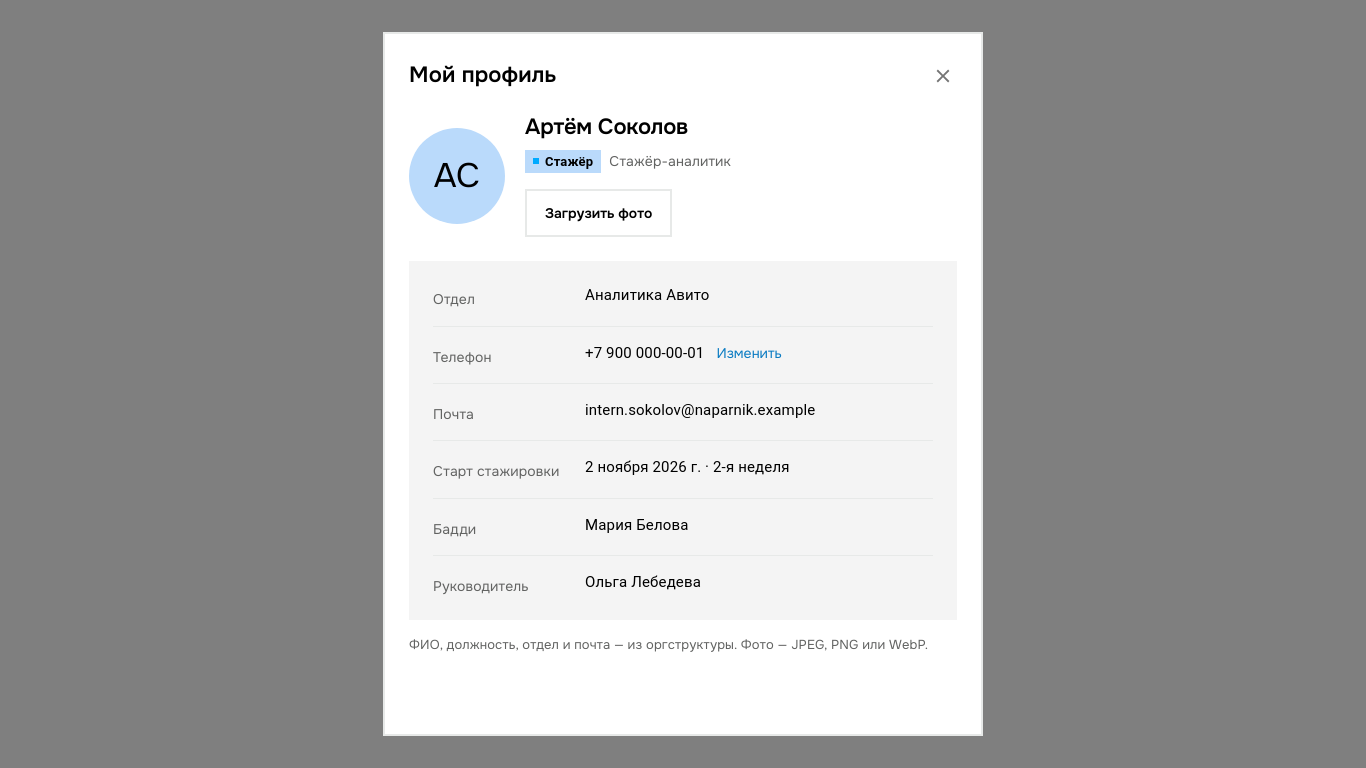
Test case: ProfileDialog › validates phone with hint, blocks letters, and saves 11-digit +7 number
This screenshot has width=1366, height=768.
Click the button "Изменить" at (749, 353), box x1=716 y1=343 x2=782 y2=363
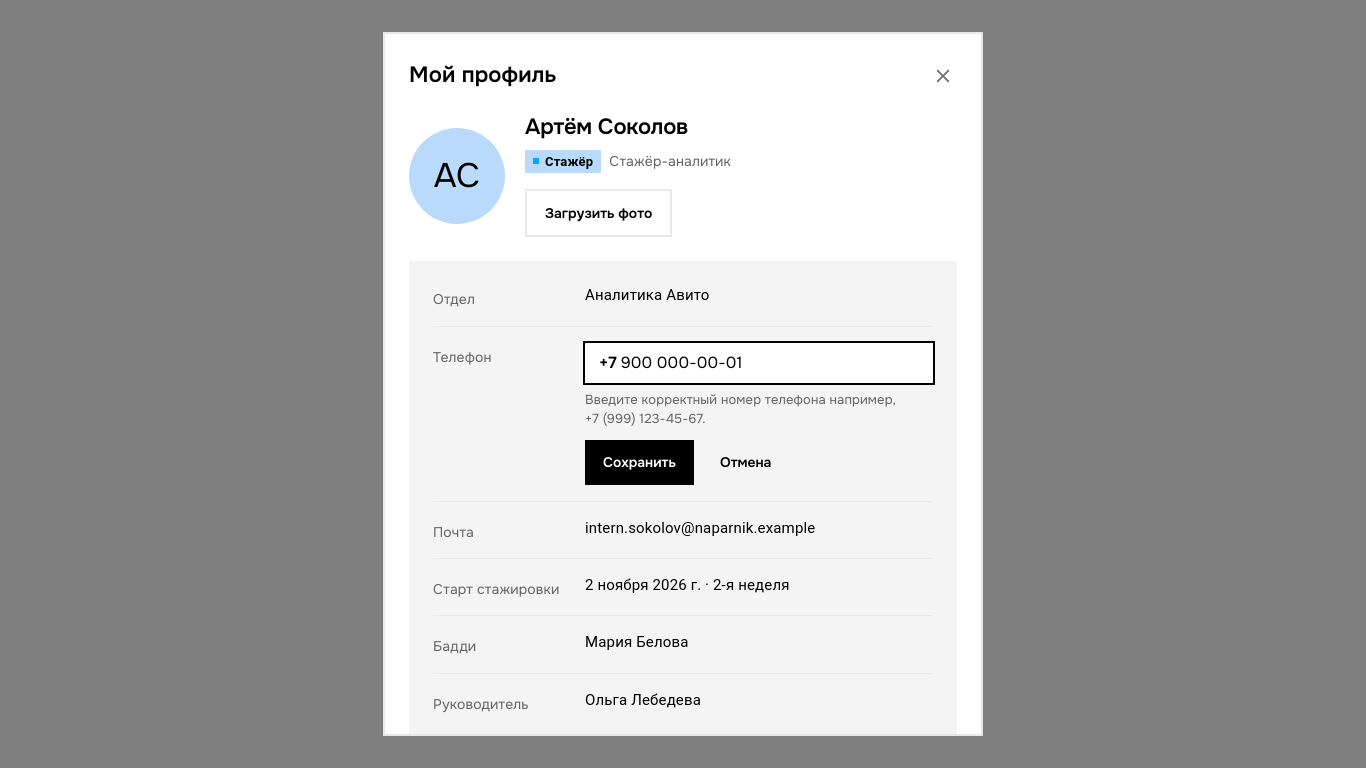
Result: the text "+7" is shown at x1=599 y1=351 x2=617 y2=375
Result: the text "Введите корректный номер телефона например" is shown at x1=585 y1=391 x2=896 y2=426
Replace the text in the field named "Рабочий телефон" with "abc123" at (777, 363), box x1=621 y1=343 x2=933 y2=383
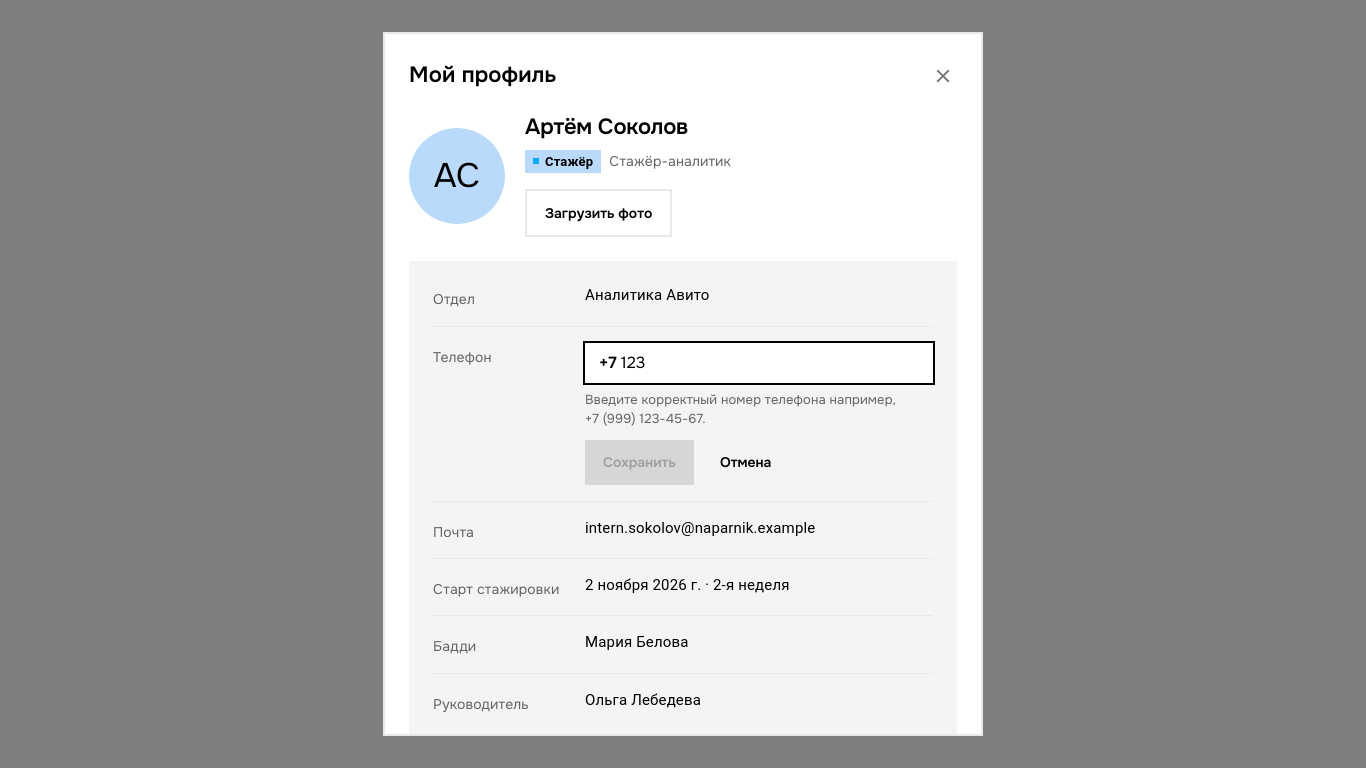
Result: the button "Сохранить" is disabled at x1=585 y1=440 x2=694 y2=485
Result: the field named "Рабочий телефон" holds "123"
Replace the text in the field named "Рабочий телефон" with "9123456789" at (777, 363), box x1=621 y1=343 x2=933 y2=383
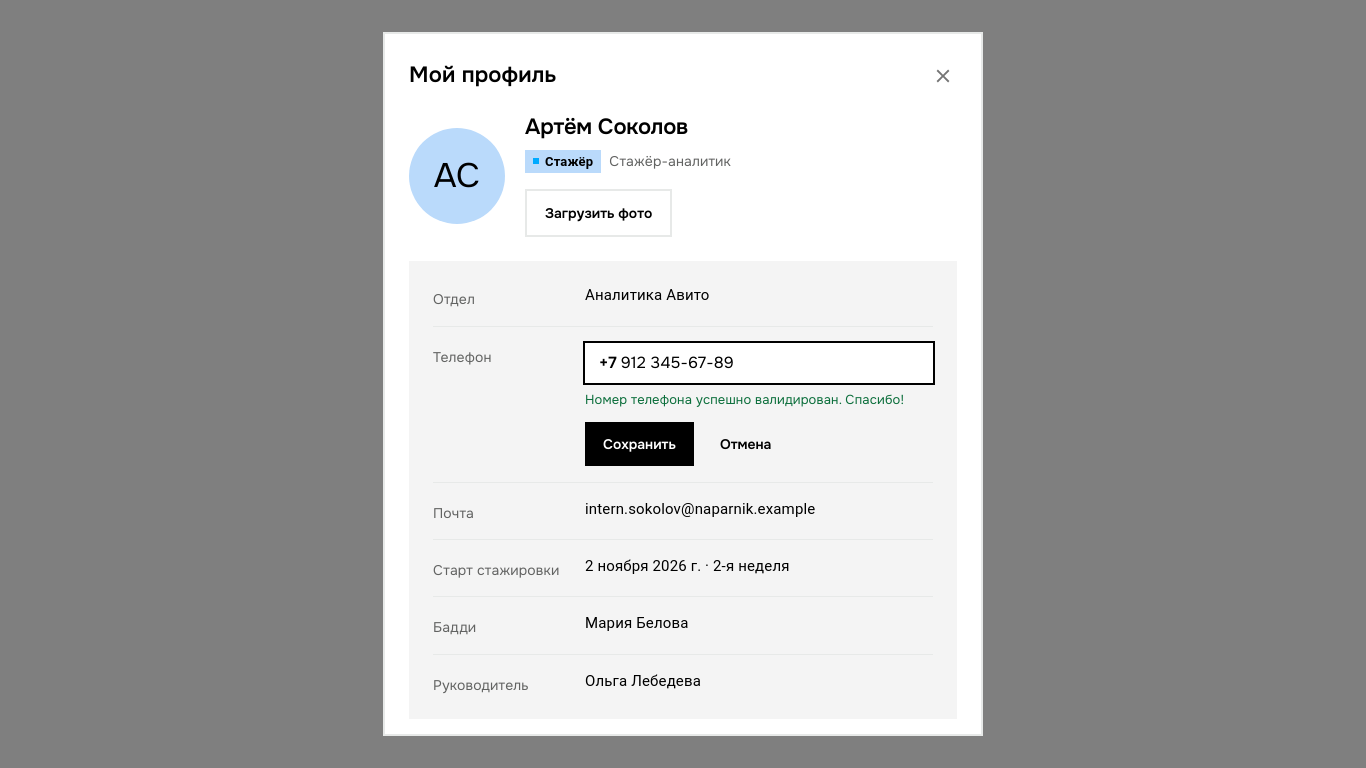
Result: the text "Номер телефона успешно валидирован. Спасибо!" is shown at x1=585 y1=391 x2=933 y2=410
Click the button "Сохранить" at (639, 444), box x1=585 y1=422 x2=694 y2=466
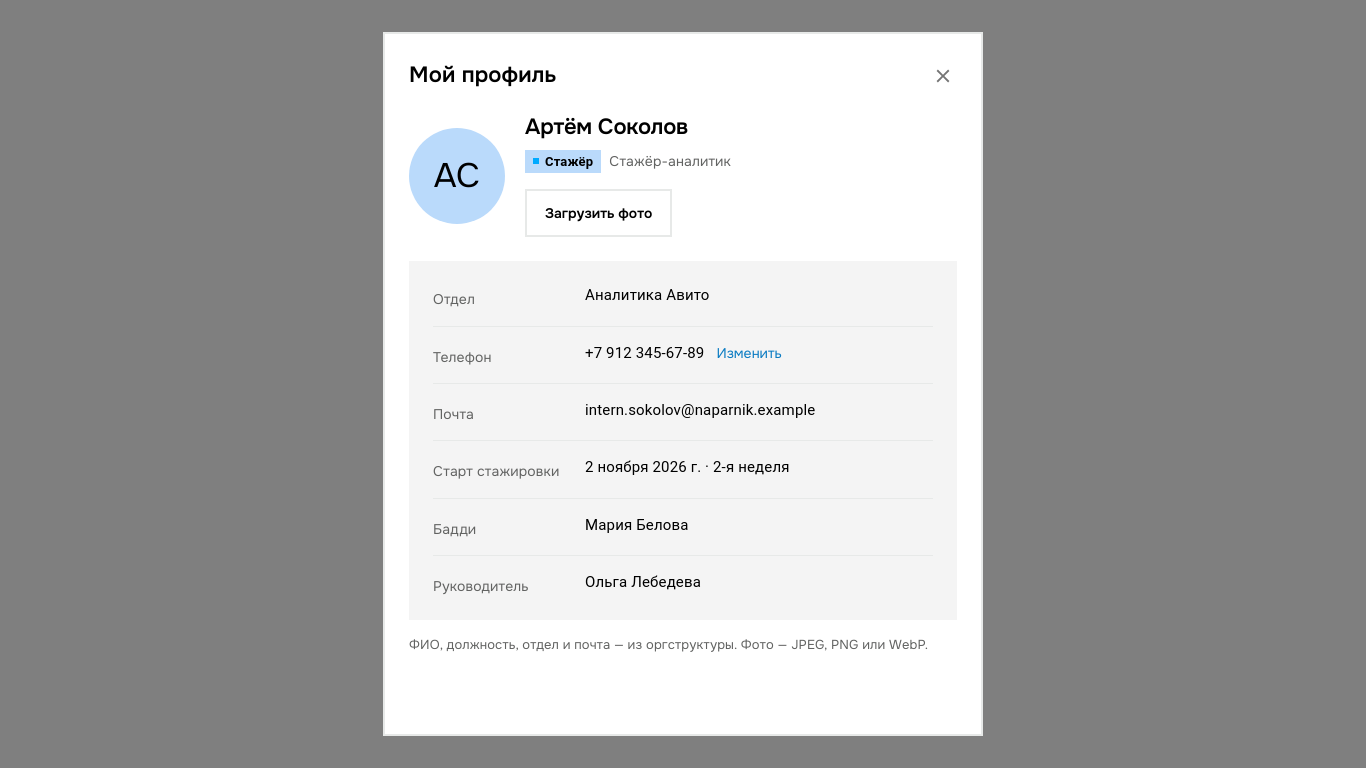
Result: the link "+7 912 345-67-89" is shown at x1=585 y1=343 x2=704 y2=364
